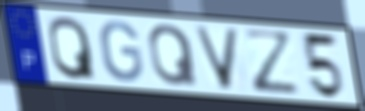5: (297, 30, 346, 101)
G: (98, 19, 146, 84)
Q: (146, 22, 200, 88), (47, 14, 98, 82)
V: (191, 24, 243, 92)
Z: (240, 27, 304, 96)
